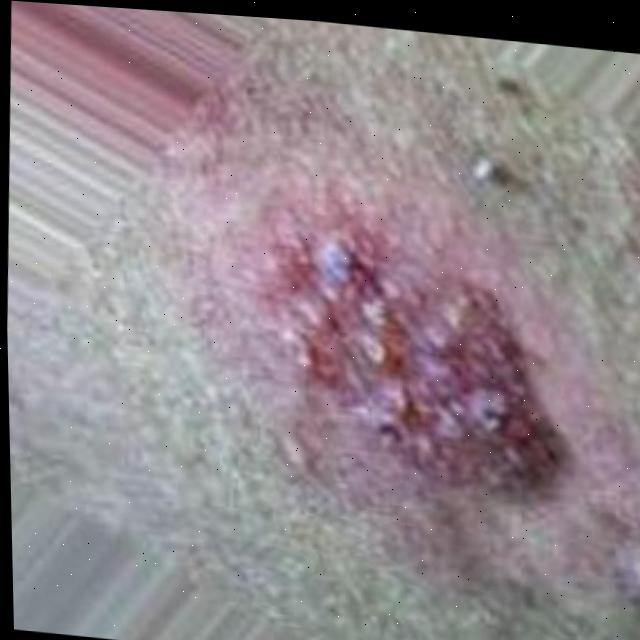Shingles: (296, 244, 558, 519)
